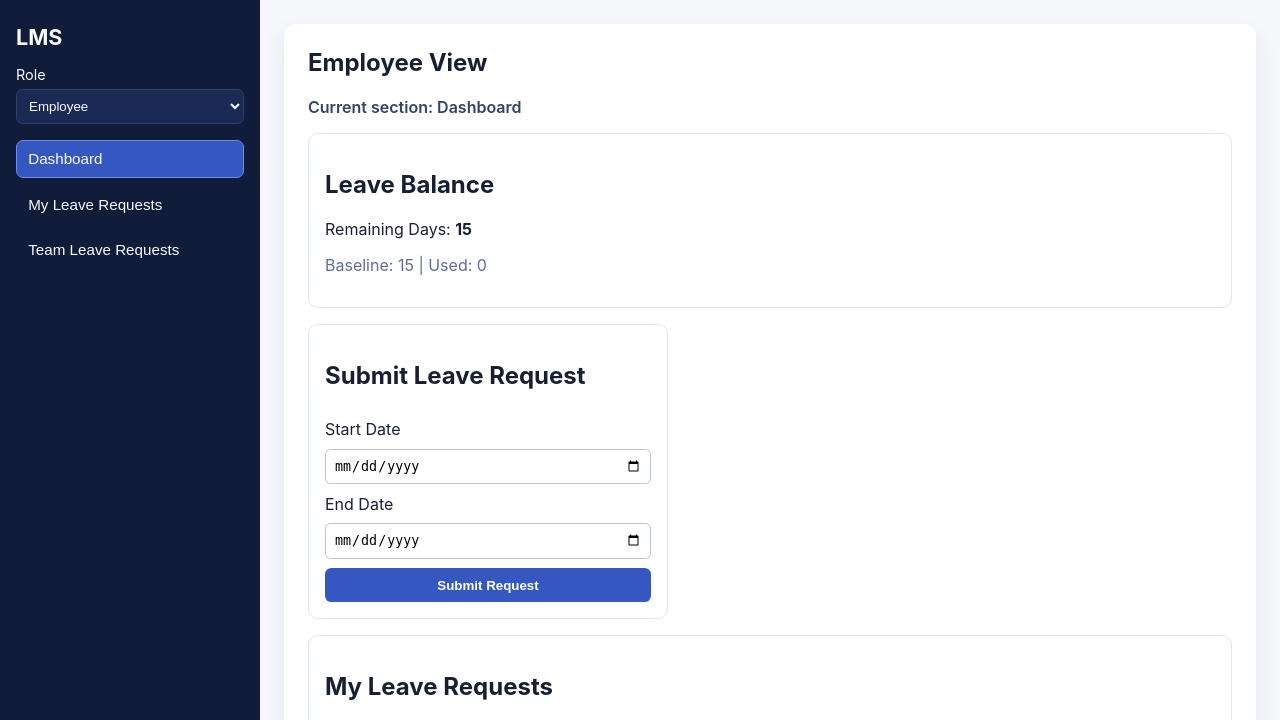
App › manager approves pending request and employee balance updates after approval
Select "Manager" in the dropdown labelled "Role": (130,106) [16,89,244,124]
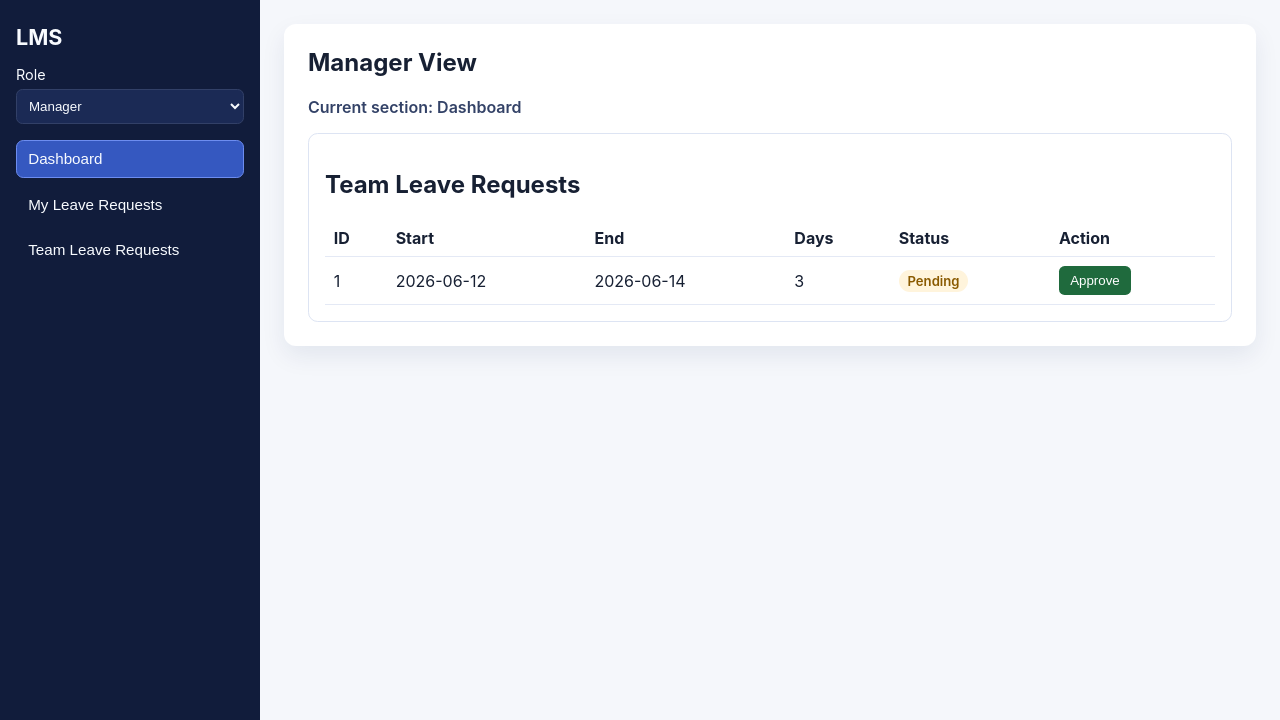
Click the button with aria-label "Approve request 1": (1095,281) [1059,266,1131,296]
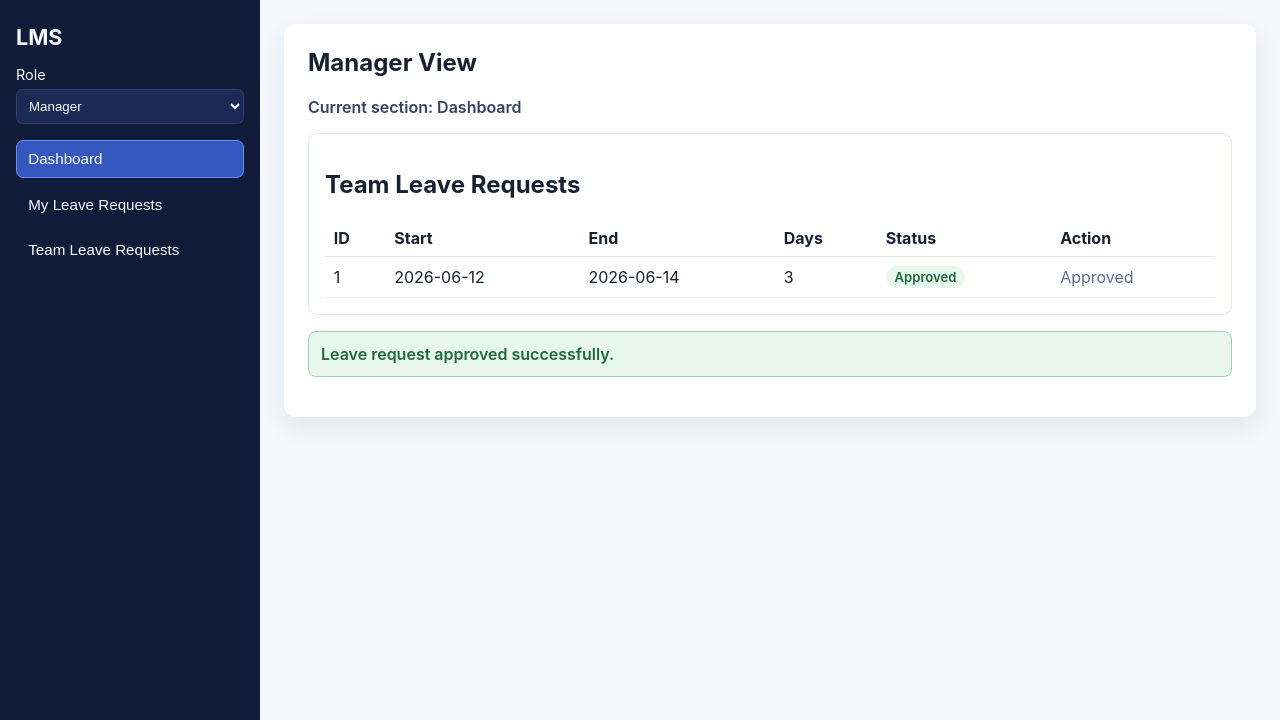
Check: the message reads "Leave request approved successfully.", box [321,344,614,364]
Check: the 1st text "Approved" is shown, box [886,266,965,288]
Select "Employee" in the dropdown labelled "Role": (130,106) [16,89,244,124]
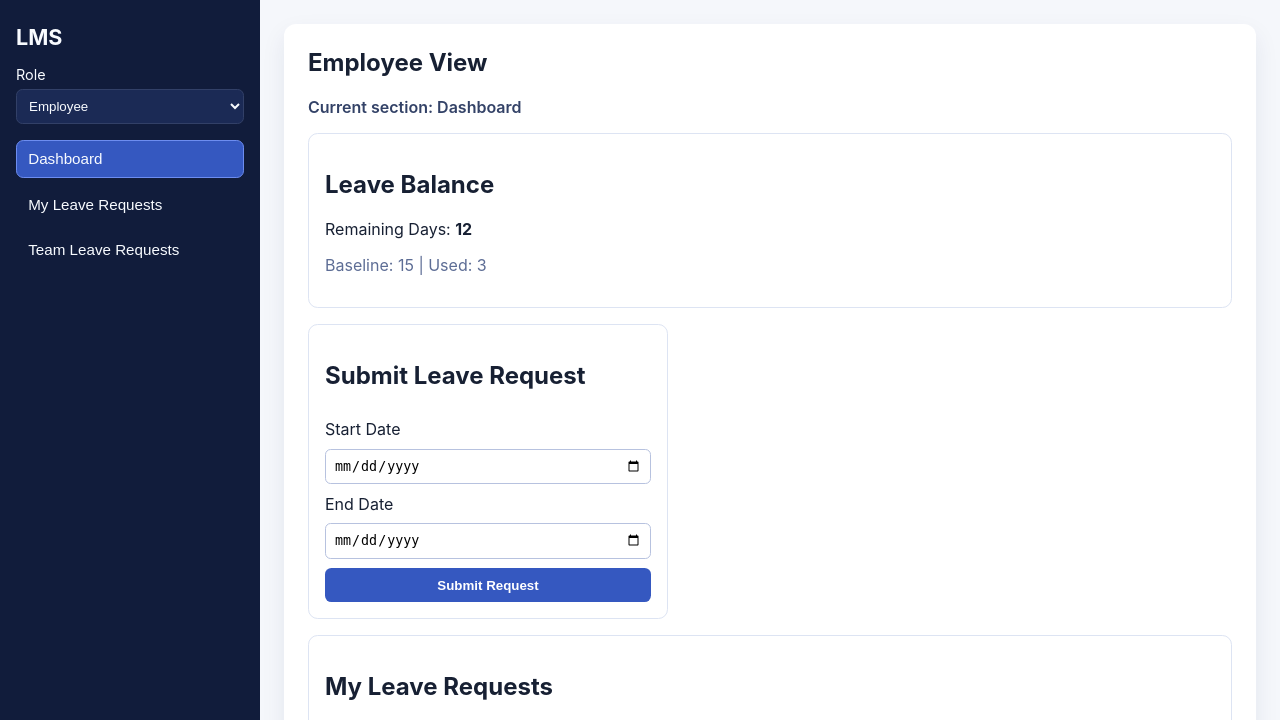
Check: the text "12" is shown, box [455,219,472,239]
